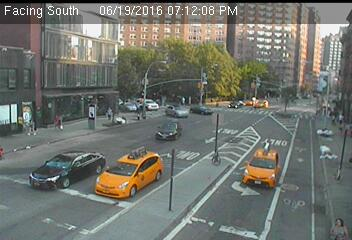neg: (210, 188, 242, 231), (163, 186, 193, 226), (6, 171, 34, 210), (51, 43, 79, 80), (296, 117, 322, 152), (194, 39, 220, 73), (109, 36, 133, 69), (262, 56, 286, 88), (299, 48, 320, 76), (248, 153, 268, 180), (122, 122, 141, 147), (212, 85, 231, 110), (112, 189, 131, 214), (81, 104, 99, 128), (80, 168, 98, 191), (49, 147, 65, 168), (157, 122, 172, 142), (205, 146, 219, 164)
pos: (329, 212, 347, 236)
